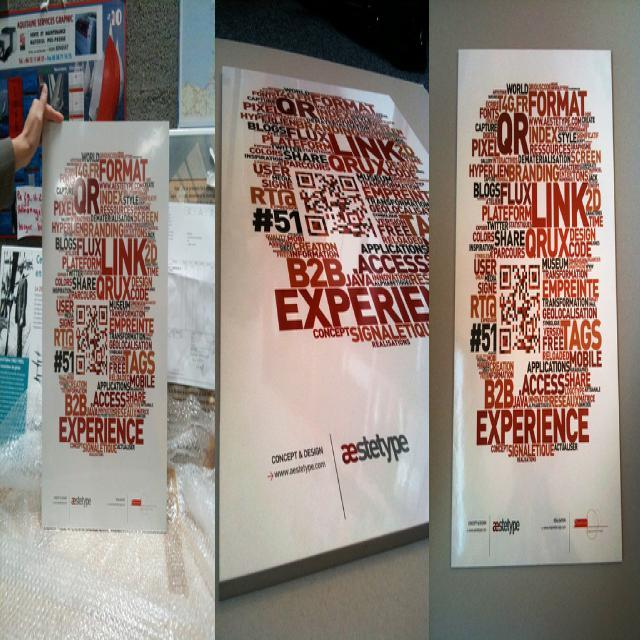qrcode: (296, 173, 379, 238), (500, 266, 541, 354), (77, 306, 108, 375)
